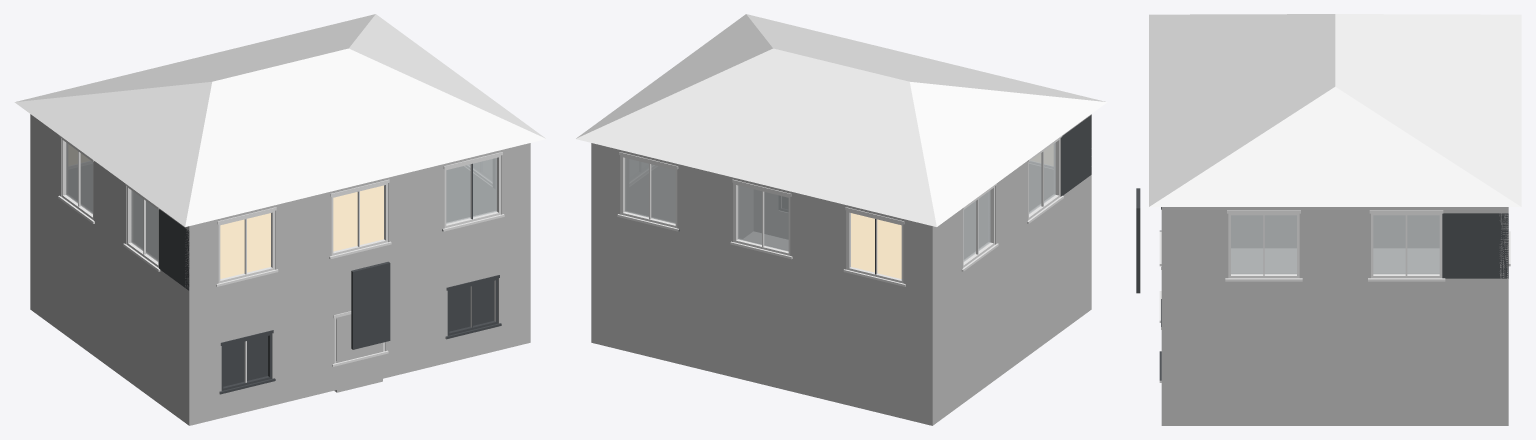
The model's file is Housuburban_house_0000006.glb.
The picture shows the model from 3 angles, left to right: view 1: azimuth 30°, elevation 25°; view 2: azimuth 150°, elevation 25°; view 3: azimuth 270°, elevation 25°; orthographic projection. The views are drawn at different scales.
Parts seen in each view (by area): view 1: Housuburban_house_0000006; view 2: Housuburban_house_0000006; view 3: Housuburban_house_0000006.
Boxes of the visible parts, x1,y1,x2,y2 form: Housuburban_house_0000006: (14,14,545,425); Housuburban_house_0000006: (576,14,1107,425); Housuburban_house_0000006: (1136,14,1521,425).
Size of the model in its own units: 10.68 by 7.45 by 9.03.
